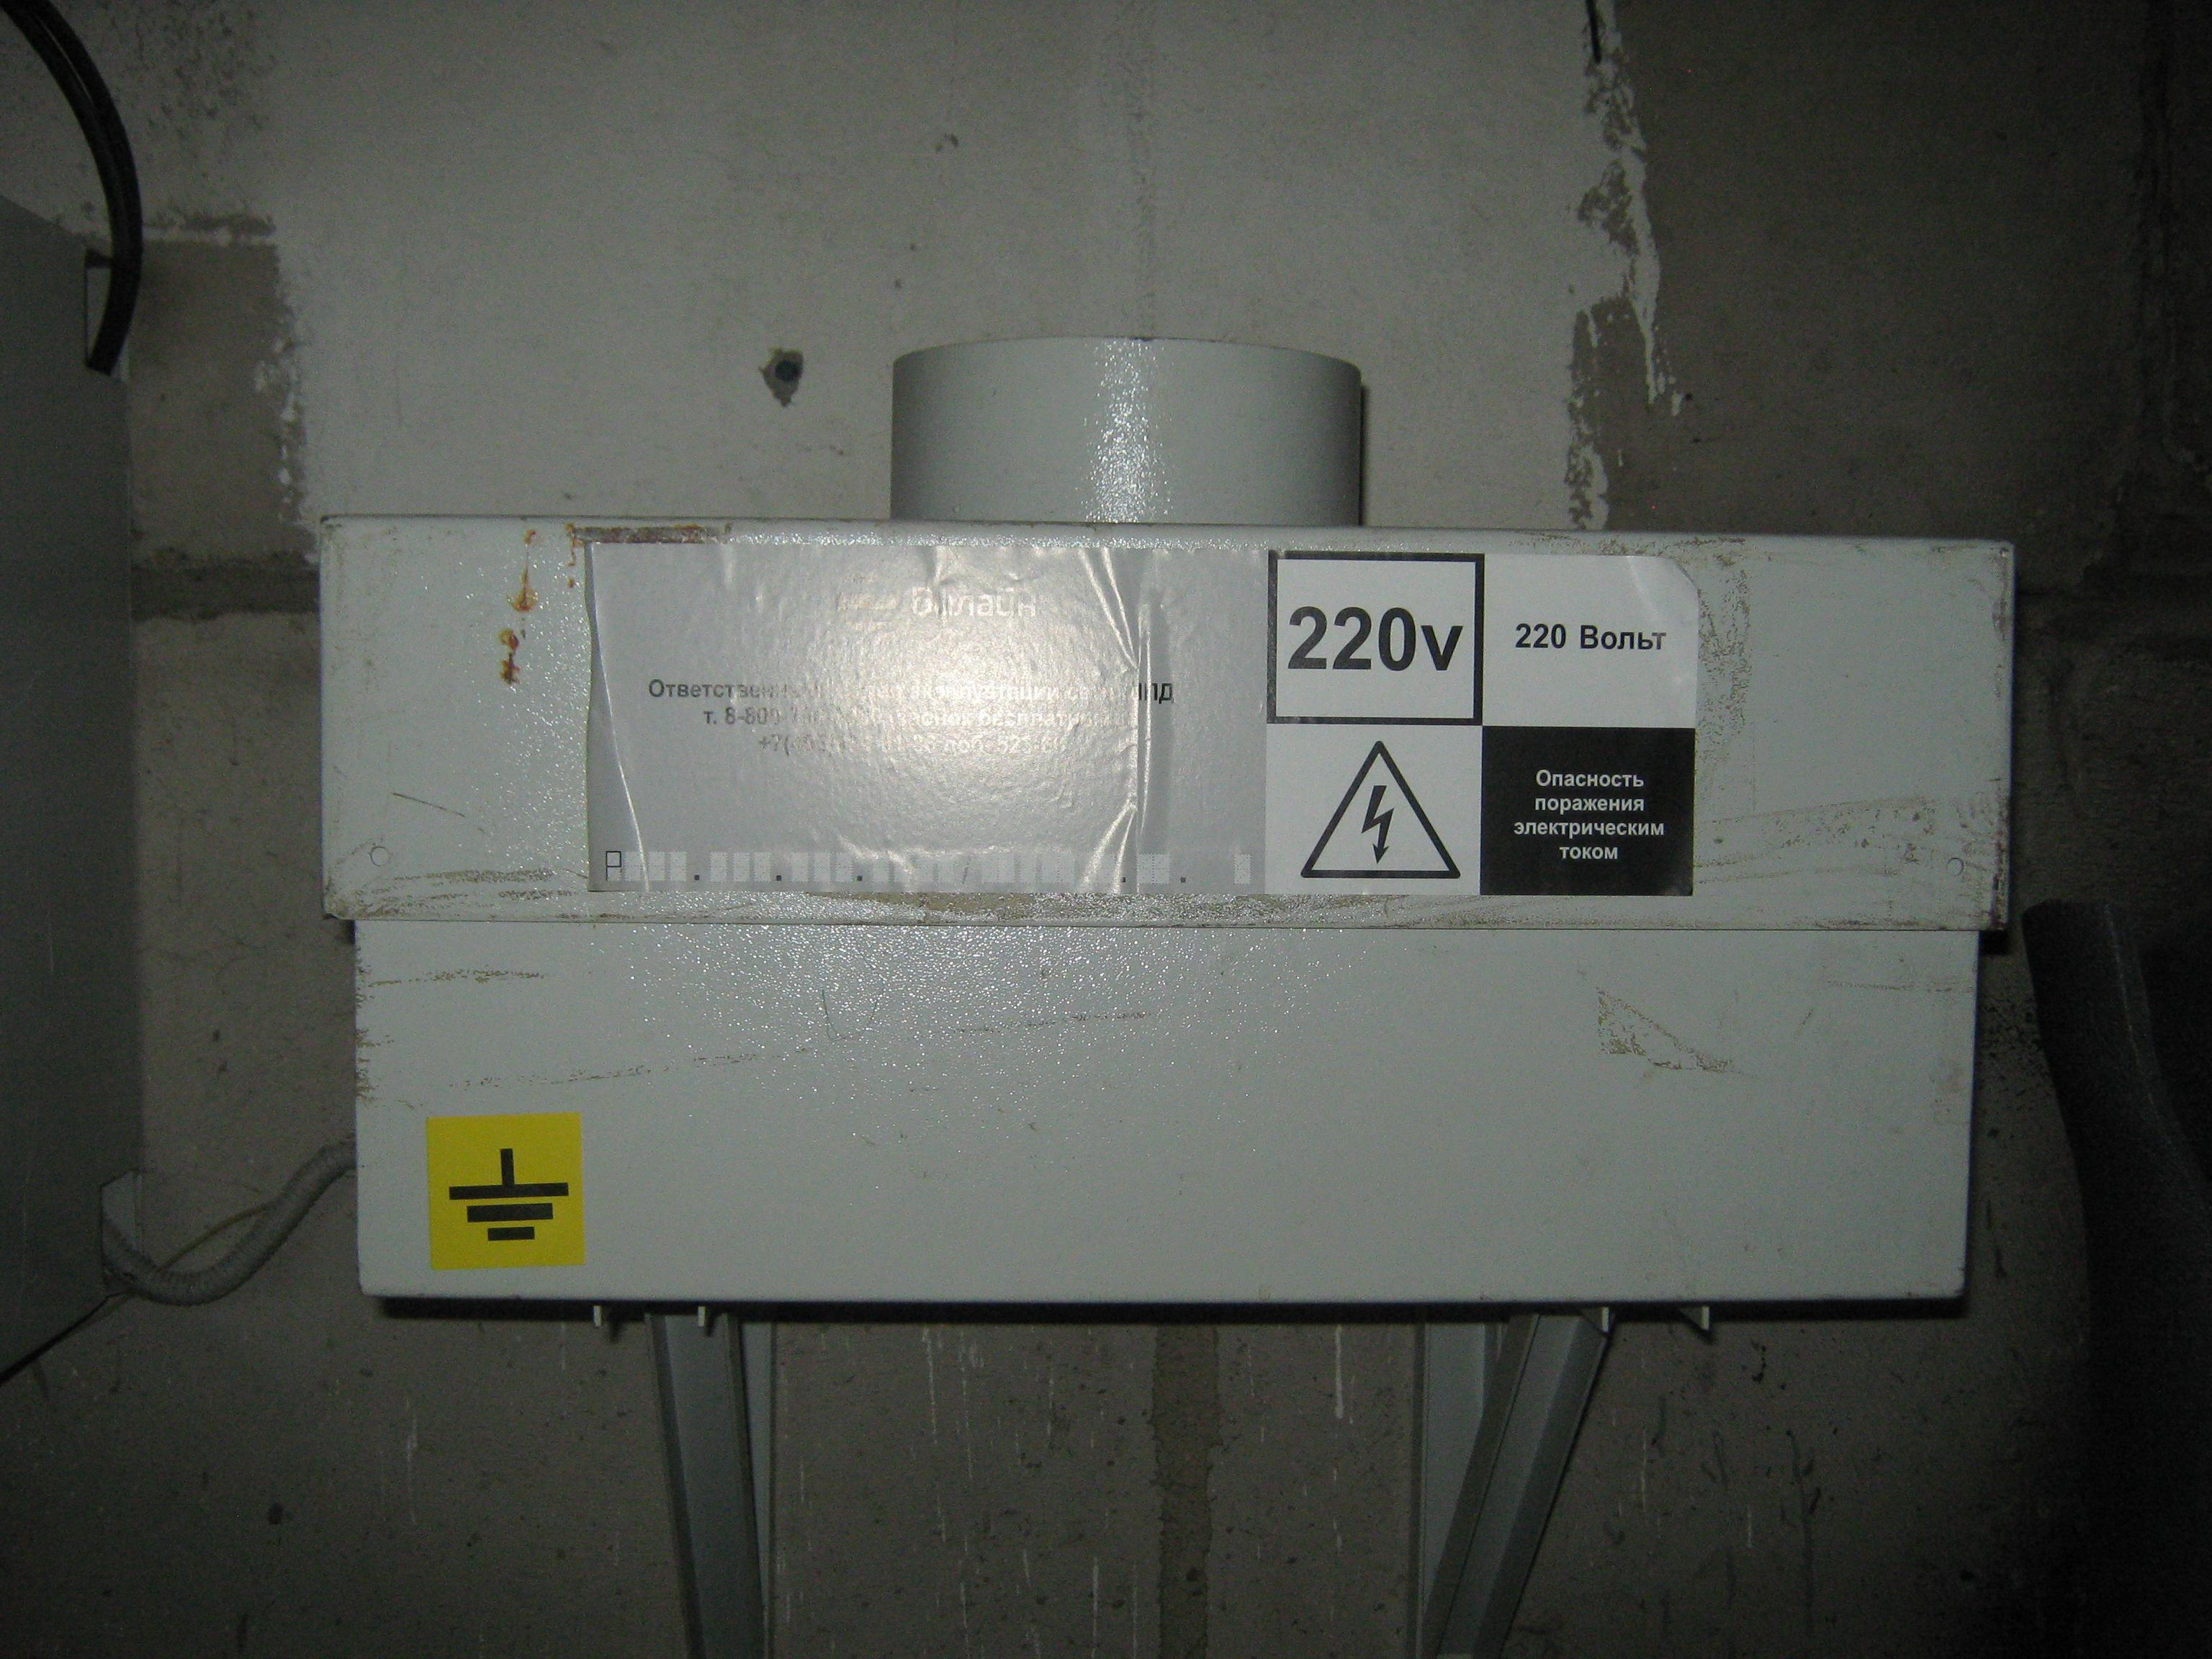shta-ps: (300, 324, 2031, 1333)
